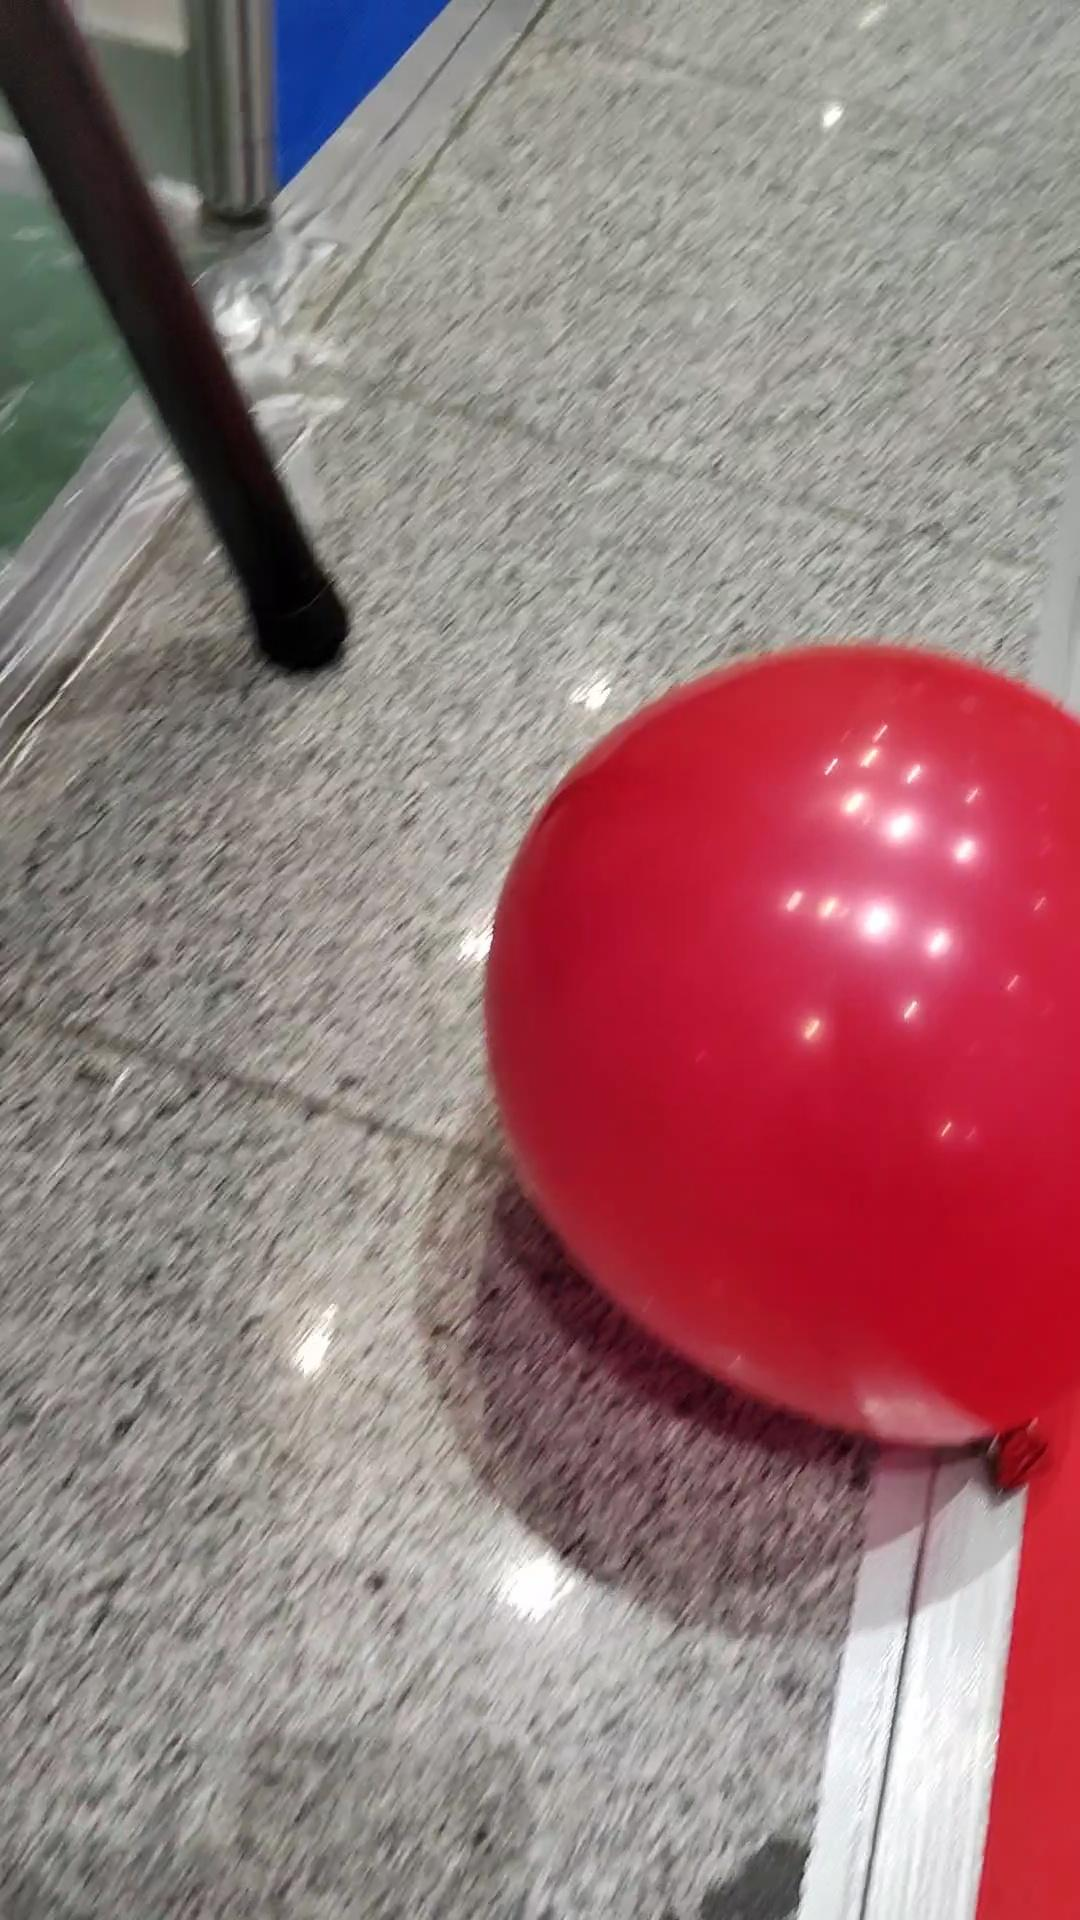red: (487, 641, 1080, 1448)
